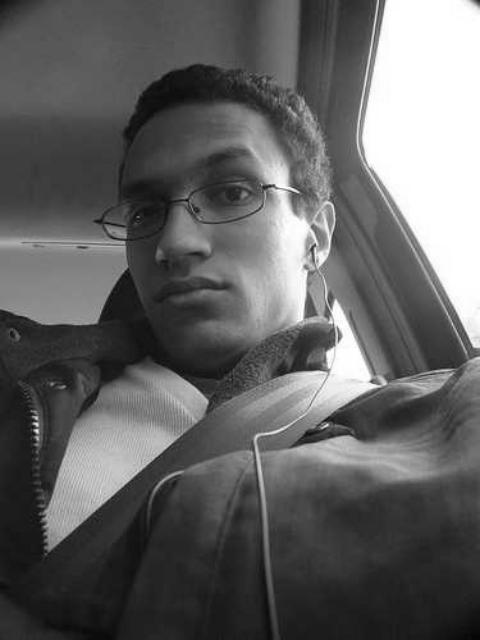SafeDriving: (198, 169, 261, 216)
Seatbelt: (36, 363, 380, 562)
